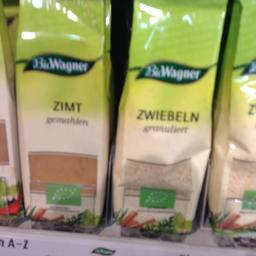spices: (114, 0, 228, 230), (15, 0, 110, 229)
